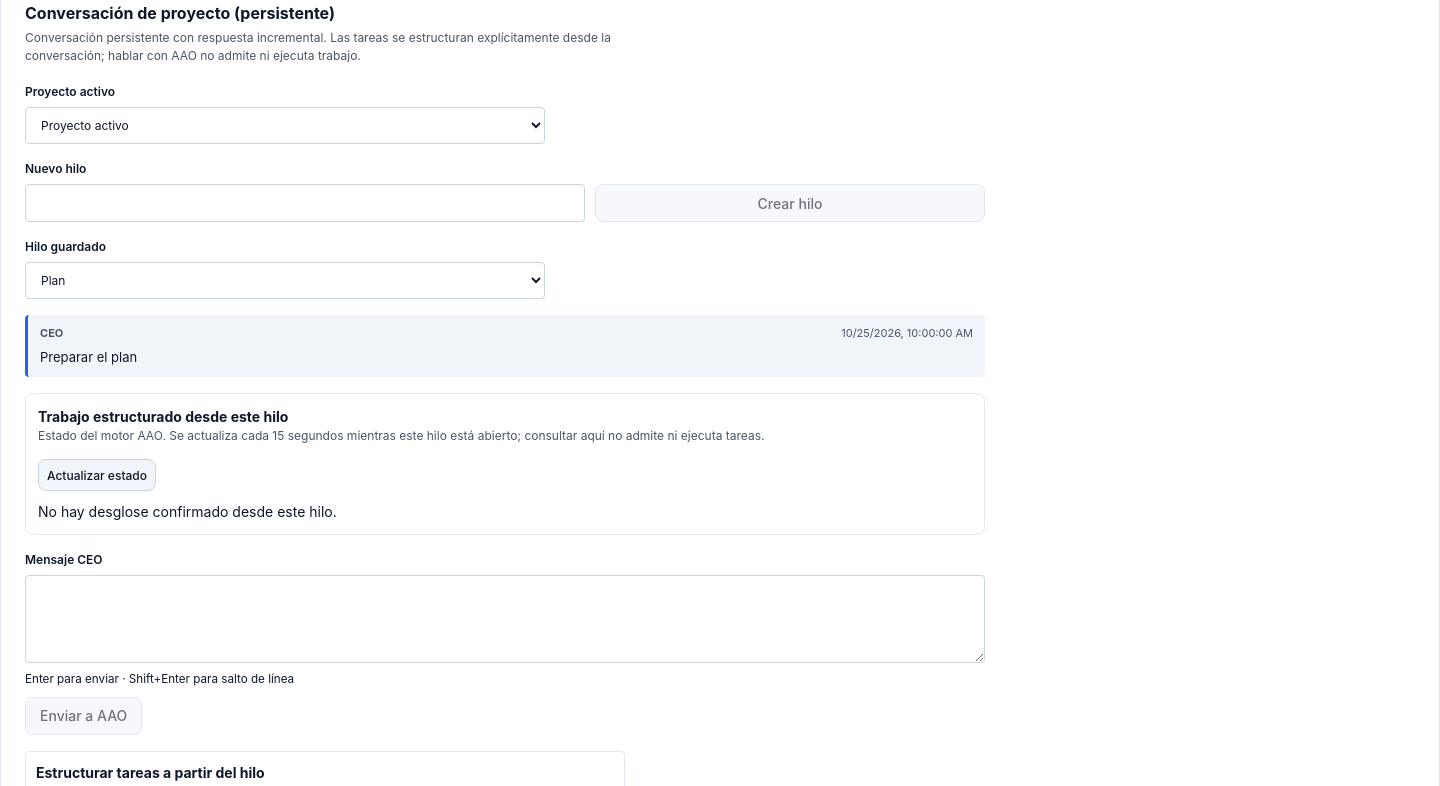
office persistent project conversation › streams a provider response and does not create work merely by conversing
Check: the text "Preparar el plan" is shown, box [40, 348, 137, 364]
Type "Revisar el presupuesto" into the text box labelled "Mensaje CEO". click: (505, 619)
box: [25, 575, 985, 663]
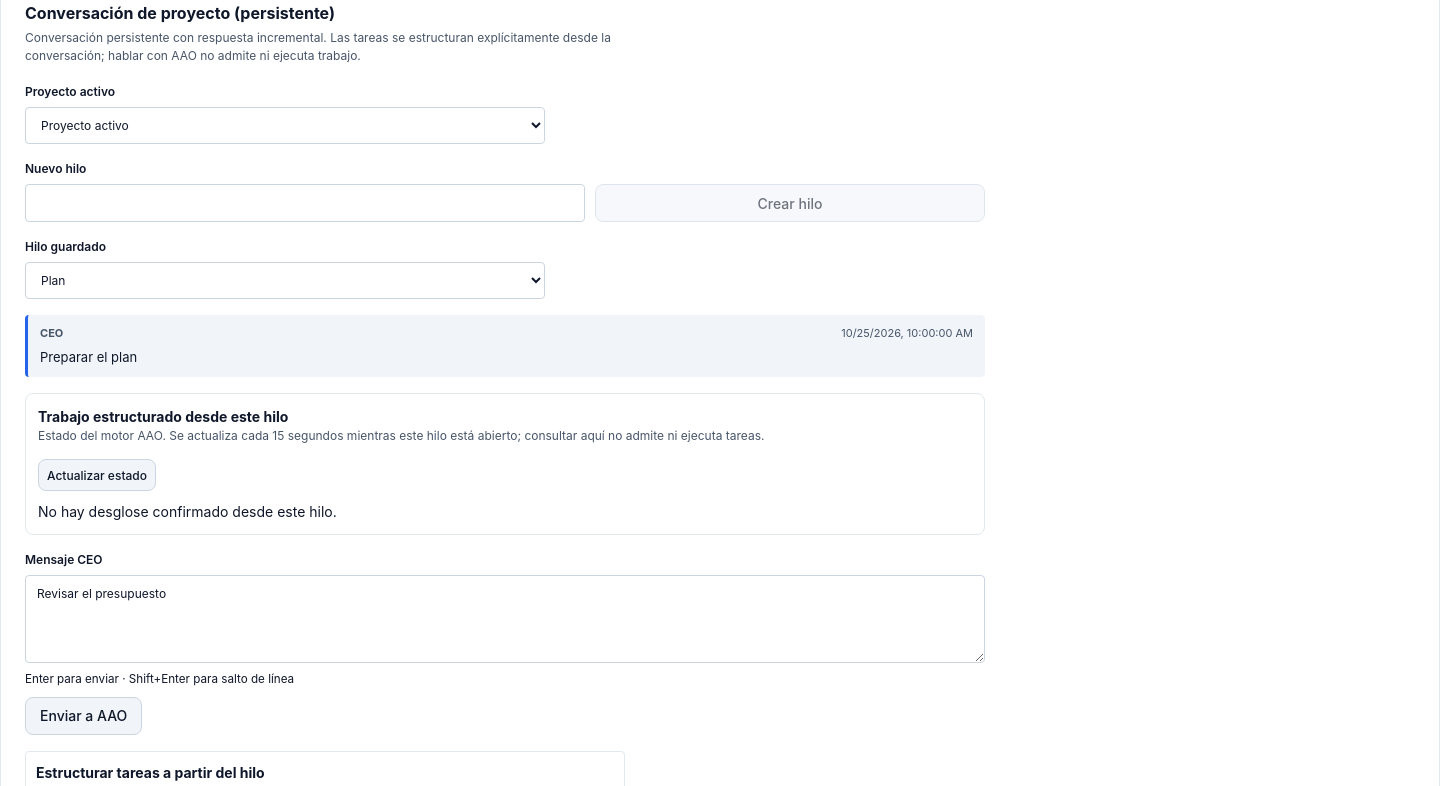
Click the button "Enviar a AAO". click: (84, 716)
box: [25, 696, 142, 734]
(page scrolled)
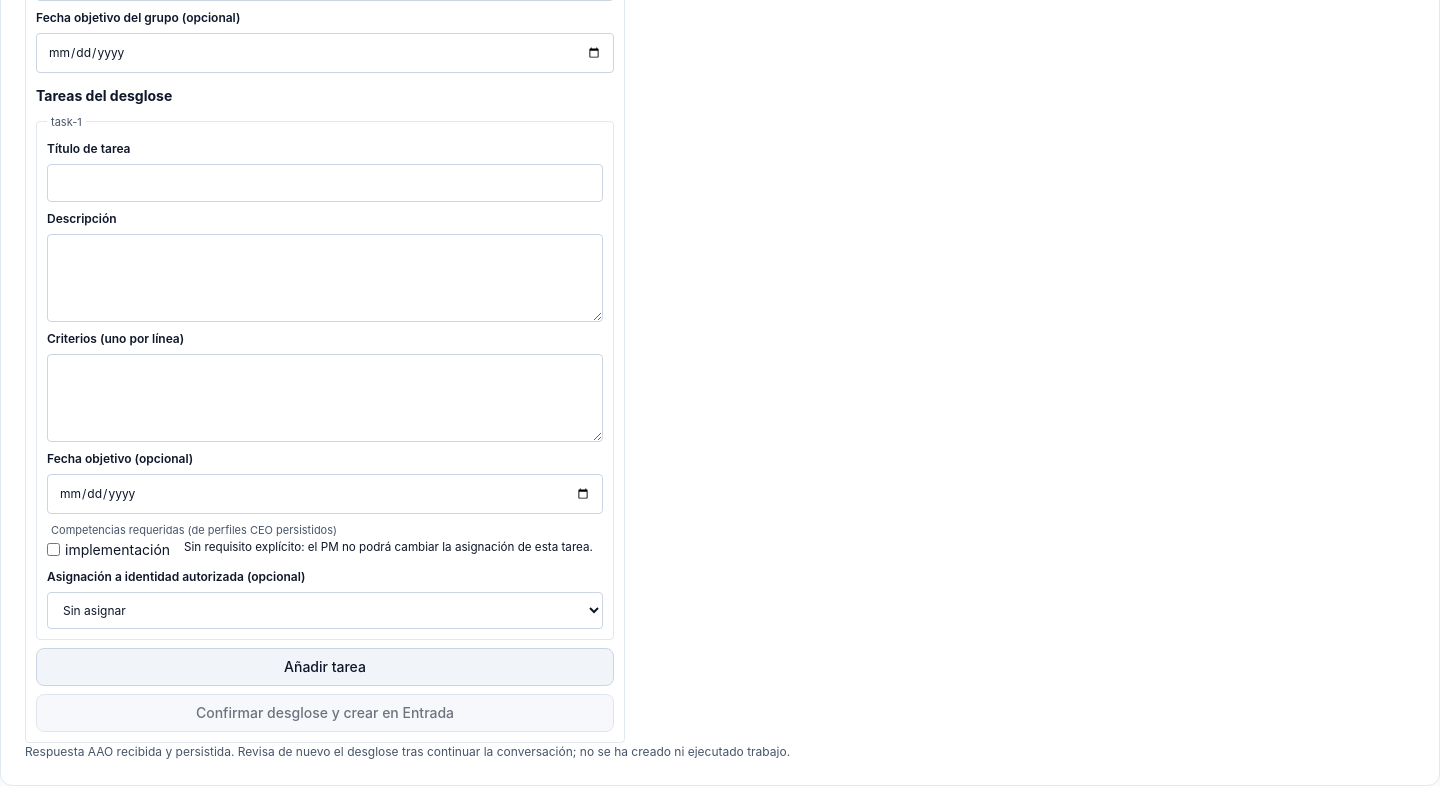
Check: the text "Respuesta AAO recibida y persistida" is shown, box [25, 744, 790, 758]
